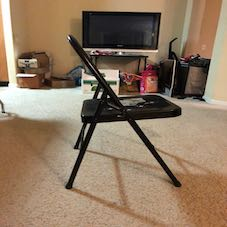chair: (48, 17, 197, 188)
